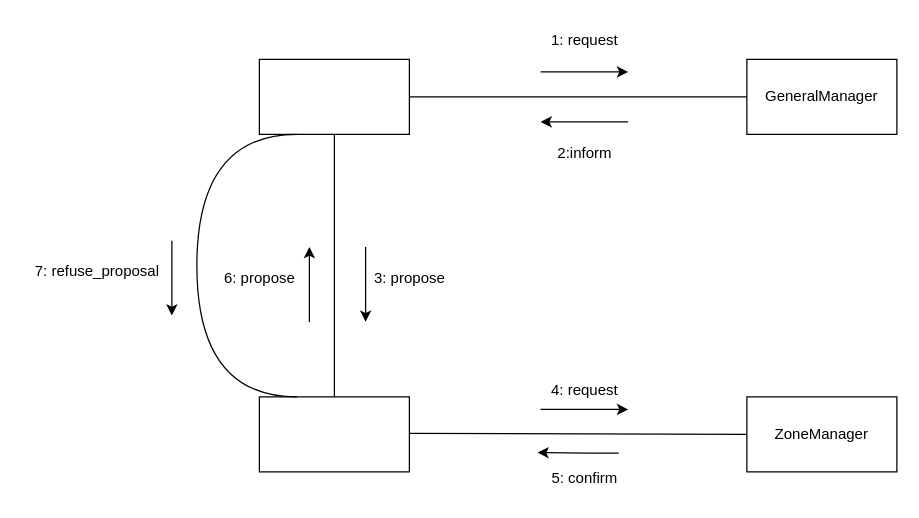
The diagram is 919 pixels wide and 518 high, and some of its shapes have lost their labels. The centre of each missing label's shape, as x and y in pixels:
Client: the point at 333,96
ParkManager: the point at 333,434
